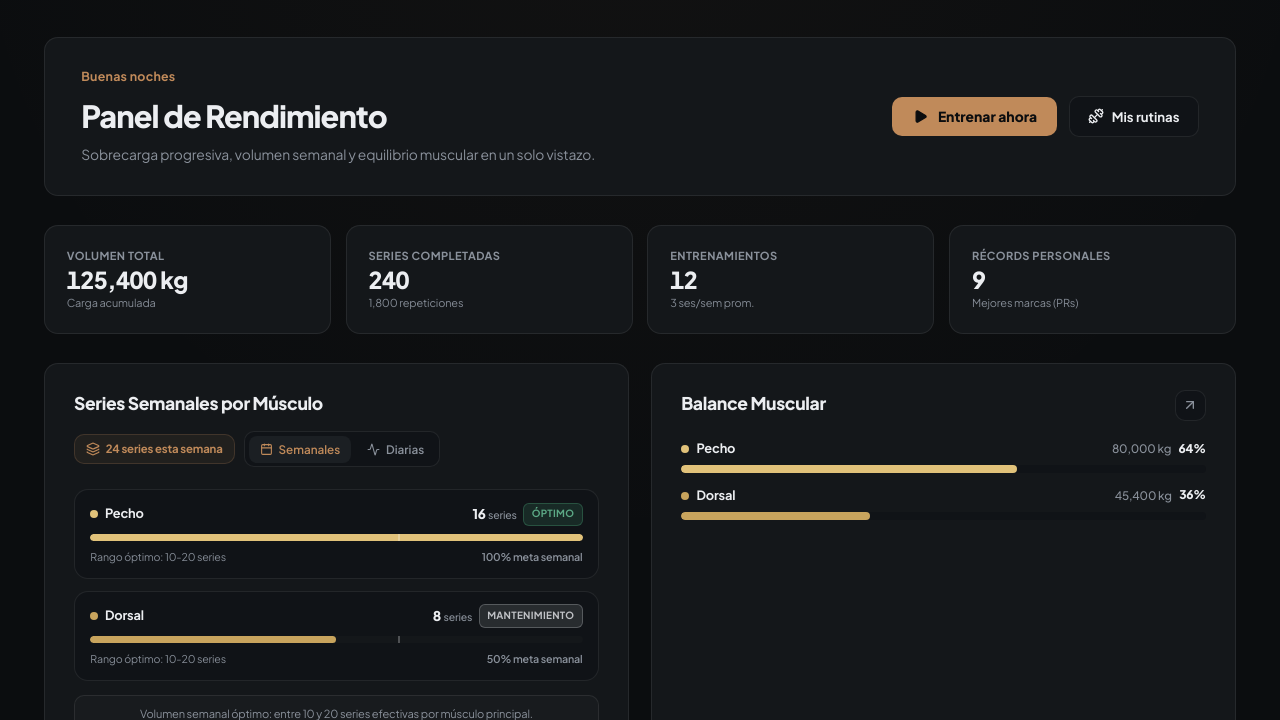
Test: HomeView dashboard › switches between weekly and daily muscle-set views
Expected: the text "24 series esta semana" is shown, x1=106 y1=440 x2=223 y2=458
Click the button "Diarias" at {"x": 396, "y": 449}, box x1=356 y1=436 x2=435 y2=463
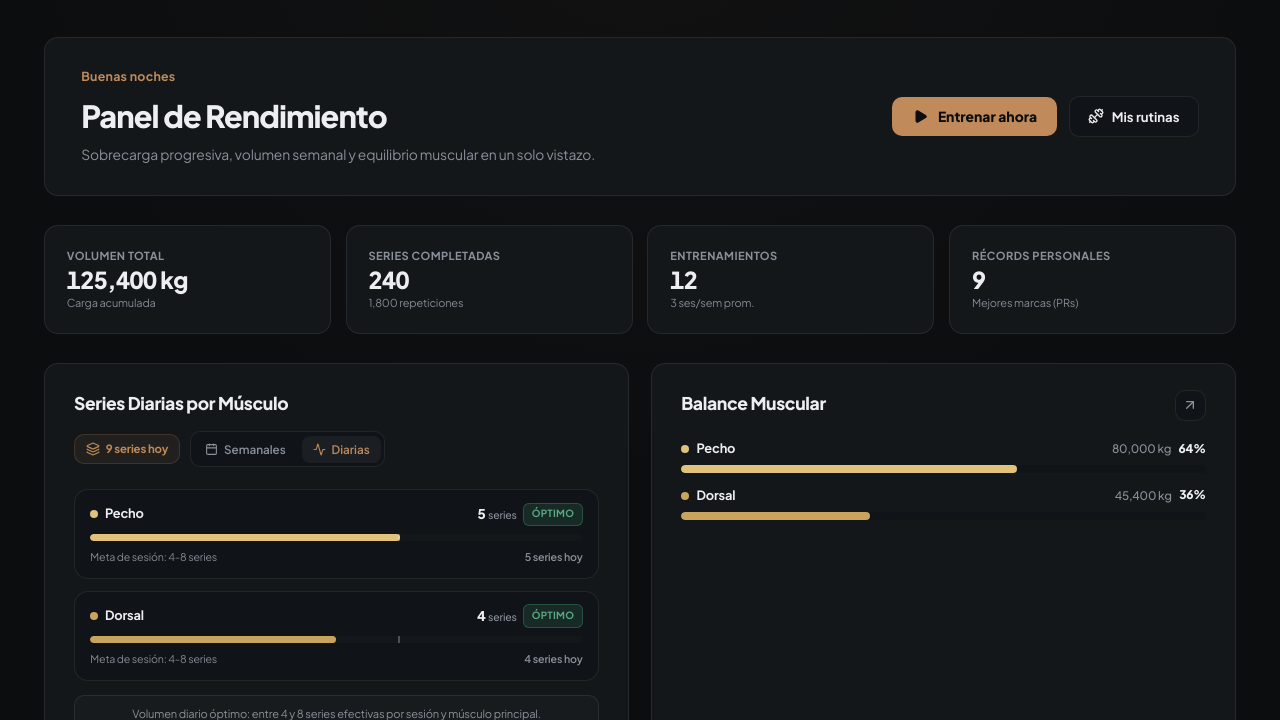
Now the heading "Series Diarias por Músculo" is shown, box x1=74 y1=390 x2=288 y2=417
Now the text "9 series hoy" is shown, box x1=106 y1=440 x2=168 y2=458
